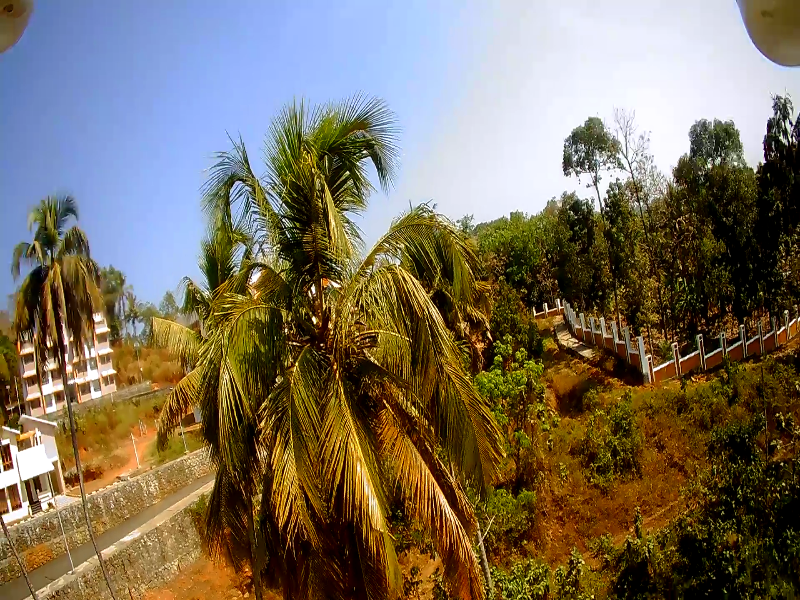coconut: (344, 343, 358, 355)
